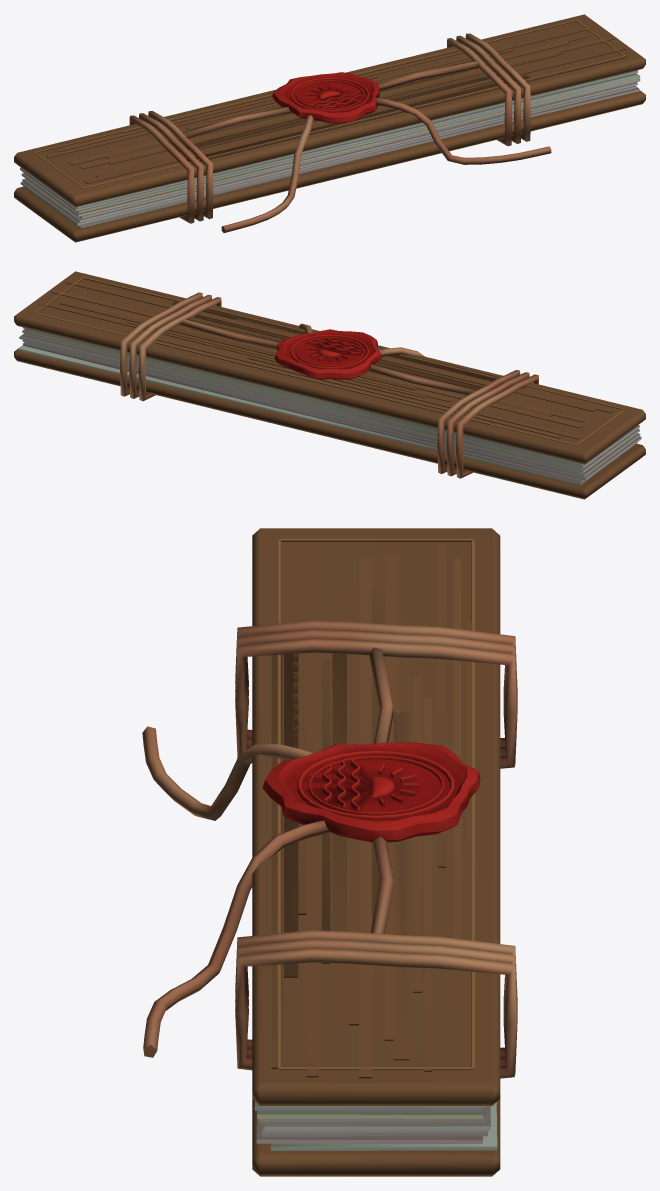
Rendered from dispatch.36d2dd9b.glb.
The picture shows the model from 3 angles, top to bottom: view 1: azimuth 30°, elevation 25°; view 2: azimuth 150°, elevation 25°; view 3: azimuth 270°, elevation 25°; orthographic projection. The views are drawn at different scales.
Parts seen in each view (by area): view 1: dispatch, seal; view 2: dispatch, seal; view 3: dispatch, seal.
Boxes of the visible parts, bbox=[...] form: dispatch: bbox=[14, 14, 645, 242]; seal: bbox=[272, 72, 379, 123]; dispatch: bbox=[14, 271, 645, 499]; seal: bbox=[274, 329, 382, 379]; dispatch: bbox=[142, 528, 517, 1176]; seal: bbox=[262, 742, 480, 842].
Size of the model in its own units: 0.246 by 0.0277 by 0.0696.
